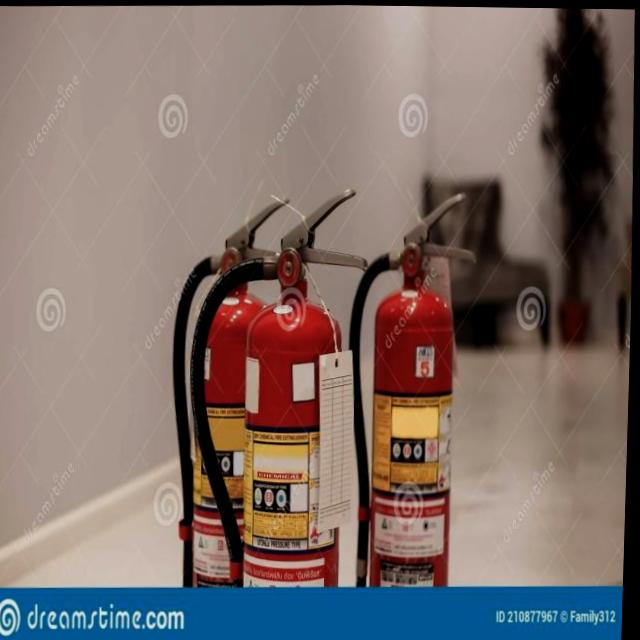FireExtinguisher: (182, 182, 380, 589), (339, 185, 486, 588), (162, 194, 306, 587)
